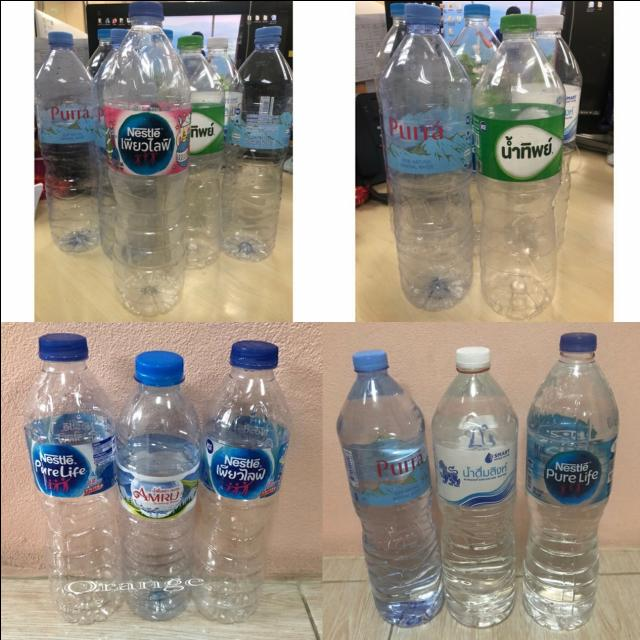plastik: (335, 349, 442, 626), (378, 3, 472, 310), (23, 332, 121, 623), (522, 332, 617, 627), (191, 339, 290, 622), (472, 13, 564, 317), (103, 0, 190, 316), (431, 346, 517, 627), (116, 350, 199, 619), (220, 25, 291, 260), (33, 30, 98, 251), (177, 34, 224, 268)
